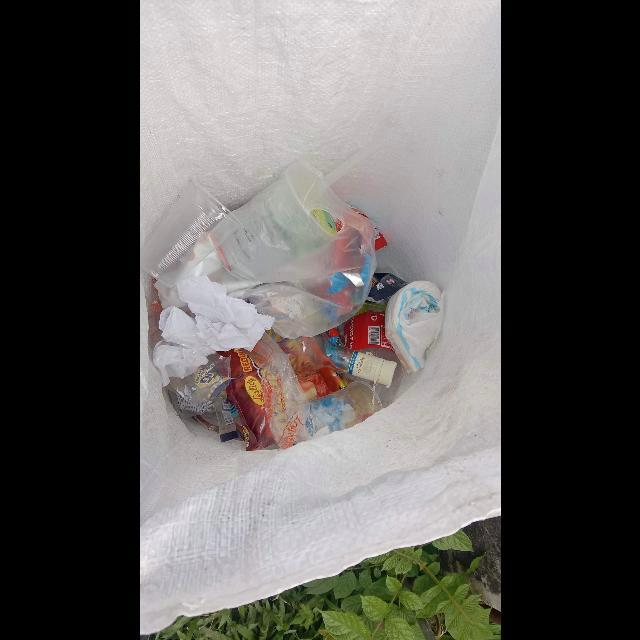food_wrapper: (217, 350, 275, 452), (364, 272, 408, 303)
glass_bottle: (266, 329, 396, 386)
paper: (176, 275, 274, 352), (157, 306, 215, 355), (152, 340, 209, 386)
plastic_bag: (179, 160, 376, 337)
plastic_container: (139, 177, 241, 288), (303, 381, 382, 437)
